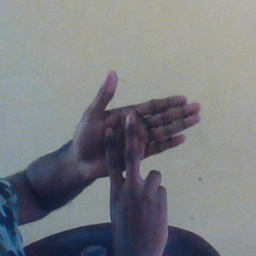N: (66, 66, 207, 223)
